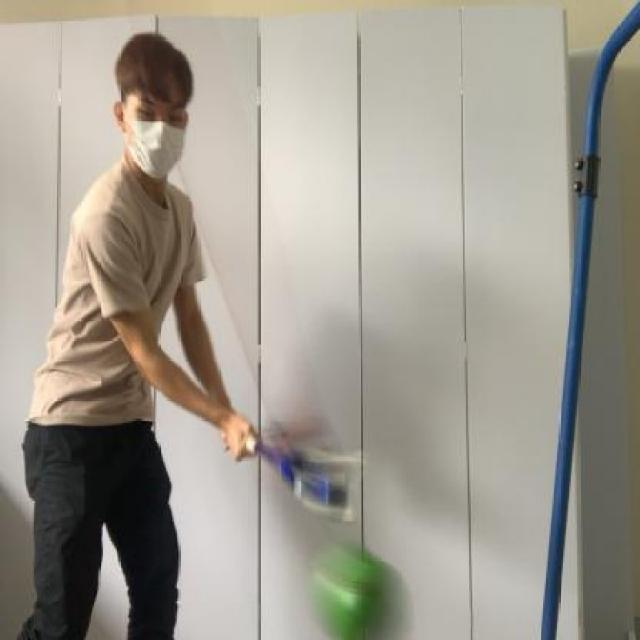baseball: (308, 535, 415, 640)
